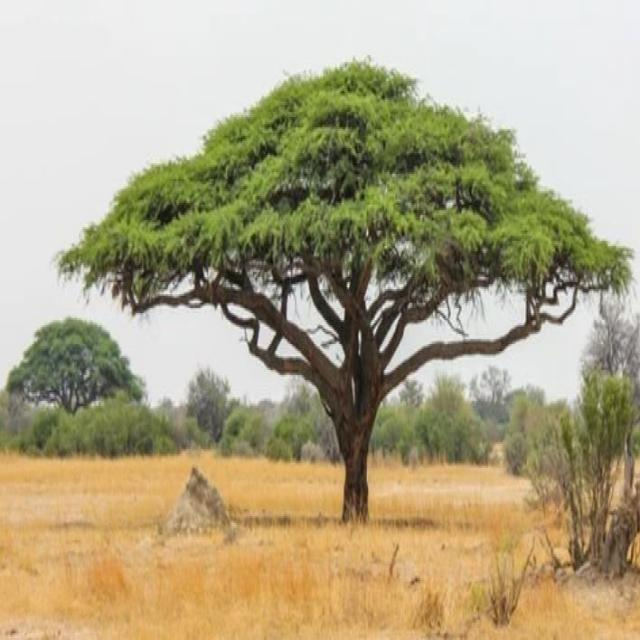Acacia: (96, 41, 604, 498), (6, 262, 141, 432)
